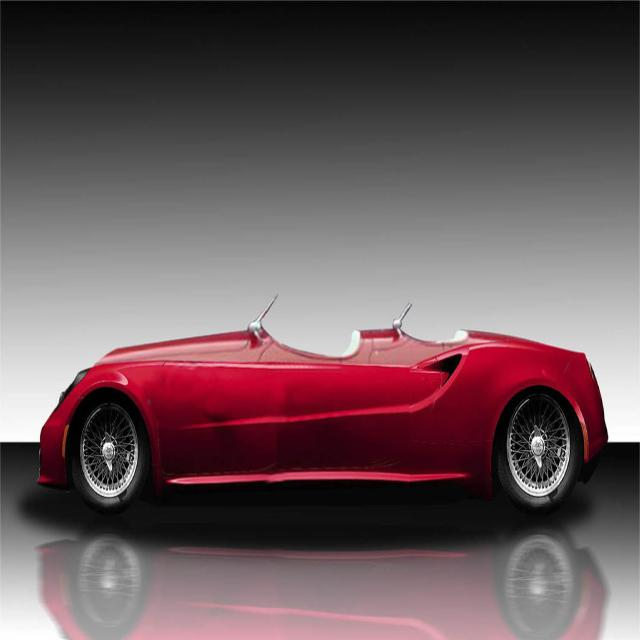car: (26, 289, 634, 540)
